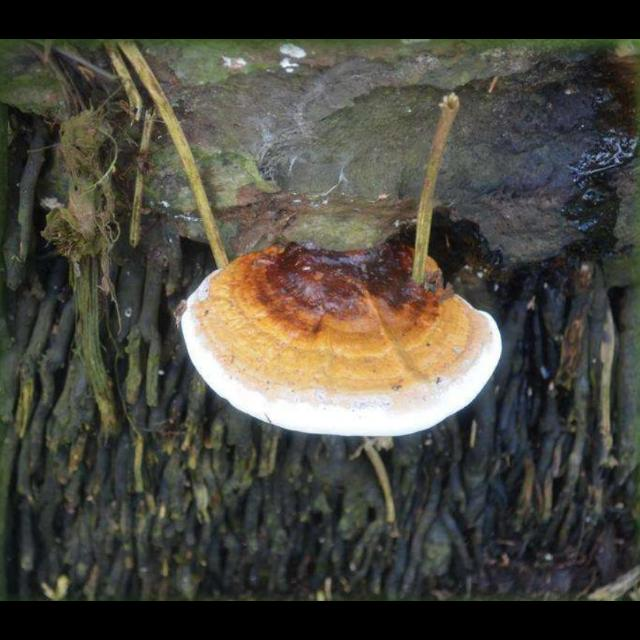ganoderma: (180, 238, 506, 440)
